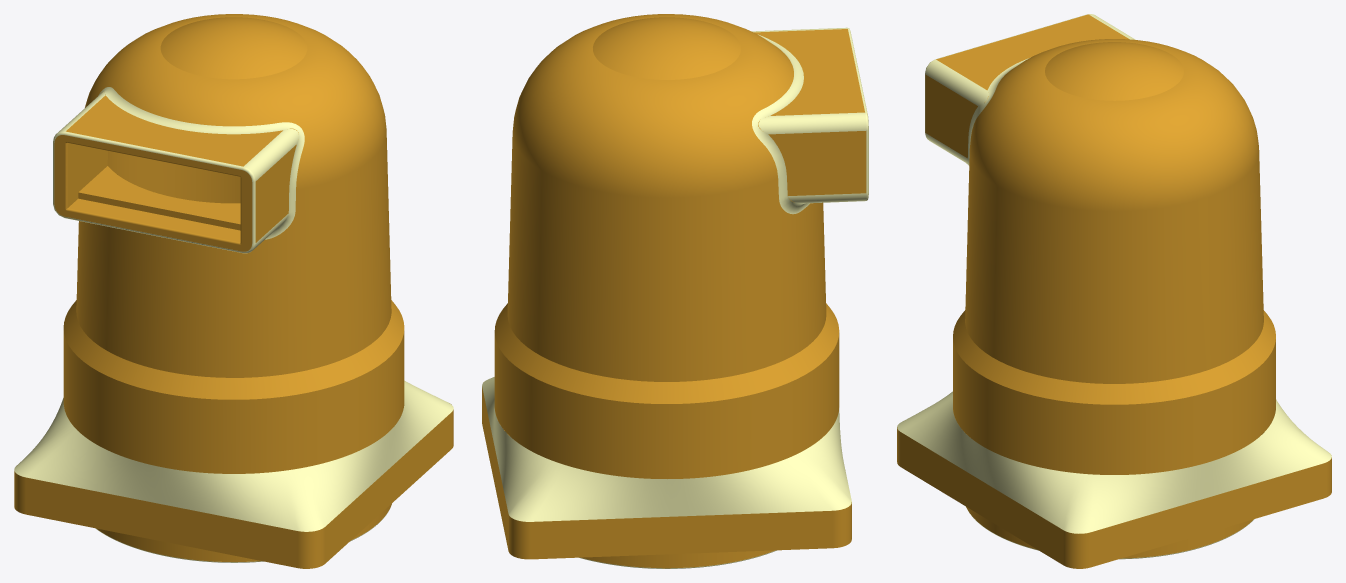
The model's file is 04.13_izolyator-prokhodnoy-uglovoy-ipu-20-250.glb.
3 renders of one model, left to right at view 1: azimuth 30°, elevation 25°; view 2: azimuth 150°, elevation 25°; view 3: azimuth 270°, elevation 25°, orthographic. The views are drawn at different scales.
Parts seen in each view (by area): view 1: 04.13_izolyator-prokhodnoy-uglovoy-ipu-20-250; view 2: 04.13_izolyator-prokhodnoy-uglovoy-ipu-20-250; view 3: 04.13_izolyator-prokhodnoy-uglovoy-ipu-20-250.
Part boxes in pixels (<box>): 04.13_izolyator-prokhodnoy-uglovoy-ipu-20-250: <box>14,14,453,568</box>; 04.13_izolyator-prokhodnoy-uglovoy-ipu-20-250: <box>482,14,868,568</box>; 04.13_izolyator-prokhodnoy-uglovoy-ipu-20-250: <box>897,14,1331,568</box>.
Size of the model in its own units: 336 by 375 by 336.
